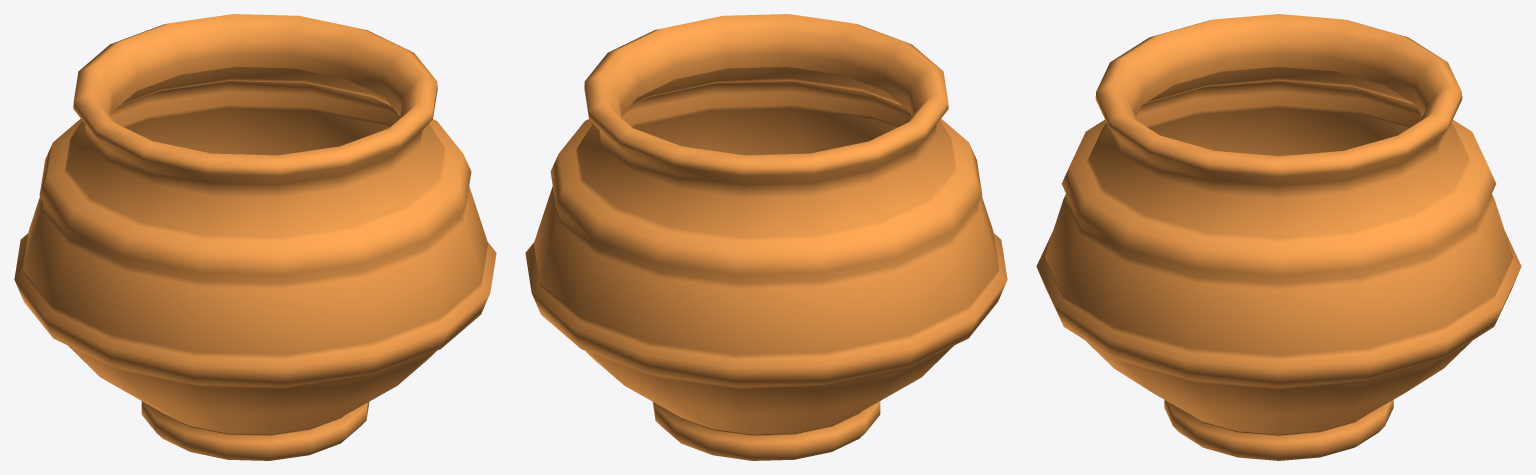
File: Vase5.fbx
The picture shows the model from 3 angles, left to right: view 1: azimuth 30°, elevation 25°; view 2: azimuth 150°, elevation 25°; view 3: azimuth 270°, elevation 25°; orthographic projection.
Parts seen in each view (by area): view 1: BezierCurve.010; view 2: BezierCurve.010; view 3: BezierCurve.010.
Part boxes in pixels (left/top/right/bottom): BezierCurve.010: left=14, top=14, right=496, bottom=460; BezierCurve.010: left=525, top=14, right=1007, bottom=460; BezierCurve.010: left=1036, top=14, right=1521, bottom=460.
Size of the model in its own units: 505 by 379 by 505.
